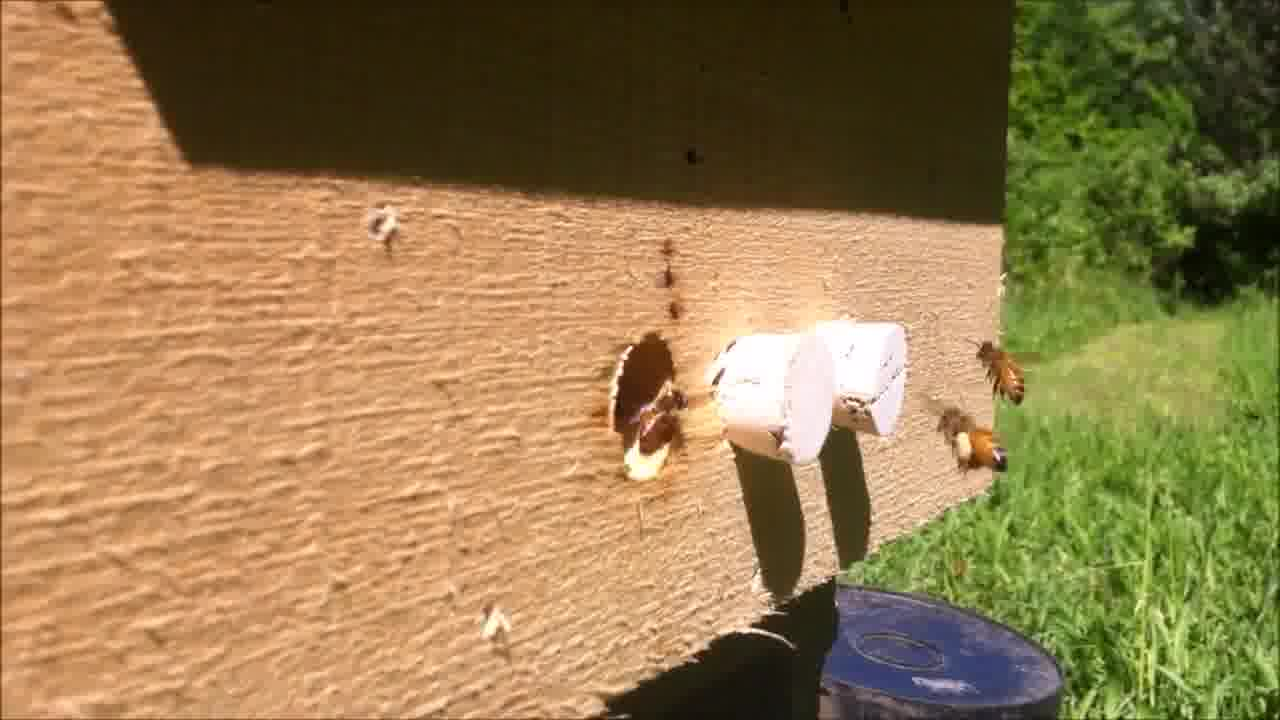pollen: (929, 399, 1013, 475)
